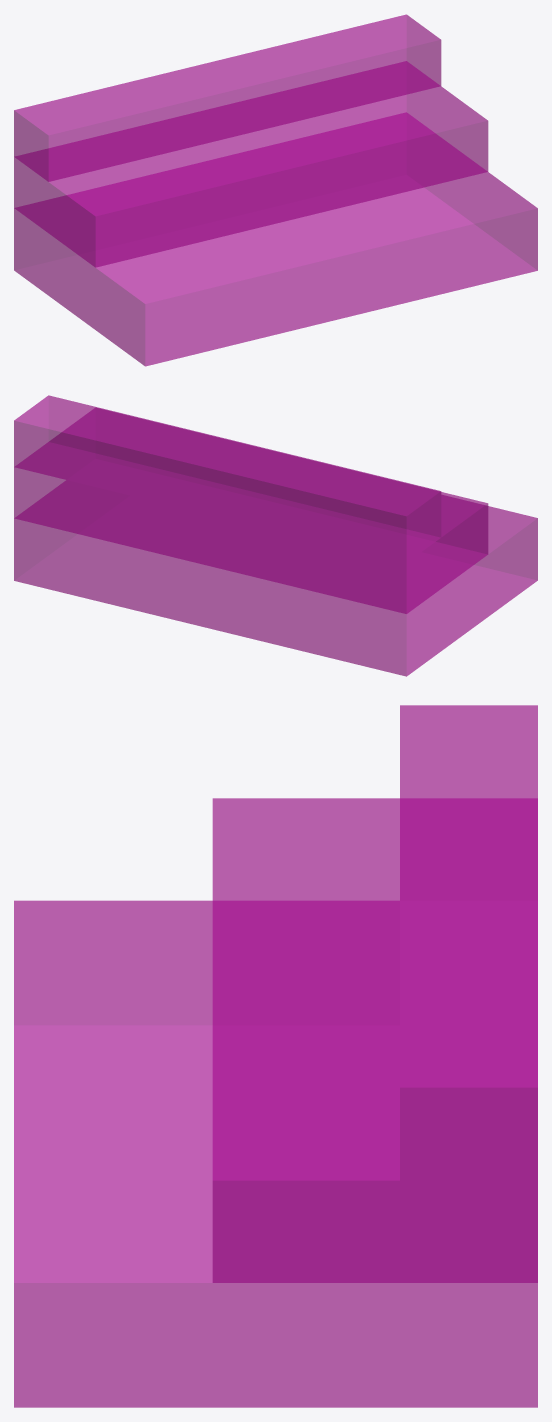
Rendered from SM_Prop_Bleachers_Straight_01_Collision.fbx.
3 renders of one model, top to bottom at view 1: azimuth 30°, elevation 25°; view 2: azimuth 150°, elevation 25°; view 3: azimuth 270°, elevation 25°, orthographic. The views are drawn at different scales.
Parts seen in each view (by area): view 1: SM_Prop_Bleachers_Straight_01_Collision; view 2: SM_Prop_Bleachers_Straight_01_Collision; view 3: SM_Prop_Bleachers_Straight_01_Collision.
Part boxes in pixels (x1=…): SM_Prop_Bleachers_Straight_01_Collision: x1=14, y1=14, x2=537, y2=366; SM_Prop_Bleachers_Straight_01_Collision: x1=14, y1=395, x2=537, y2=676; SM_Prop_Bleachers_Straight_01_Collision: x1=14, y1=705, x2=537, y2=1407.
Size of the model in its own units: 303 by 118 by 176.
